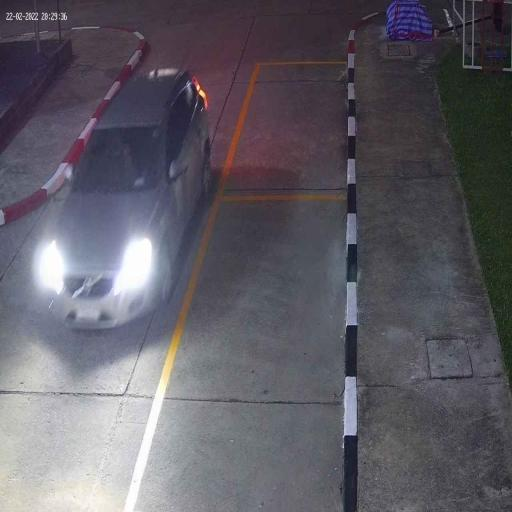car: (39, 67, 213, 334)
